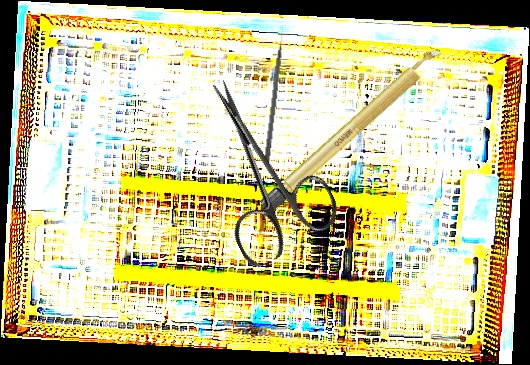Iris Scissors: (168, 59, 347, 272)
Pusher: (263, 25, 288, 164)
Scalpel Handle: (259, 43, 446, 215)
